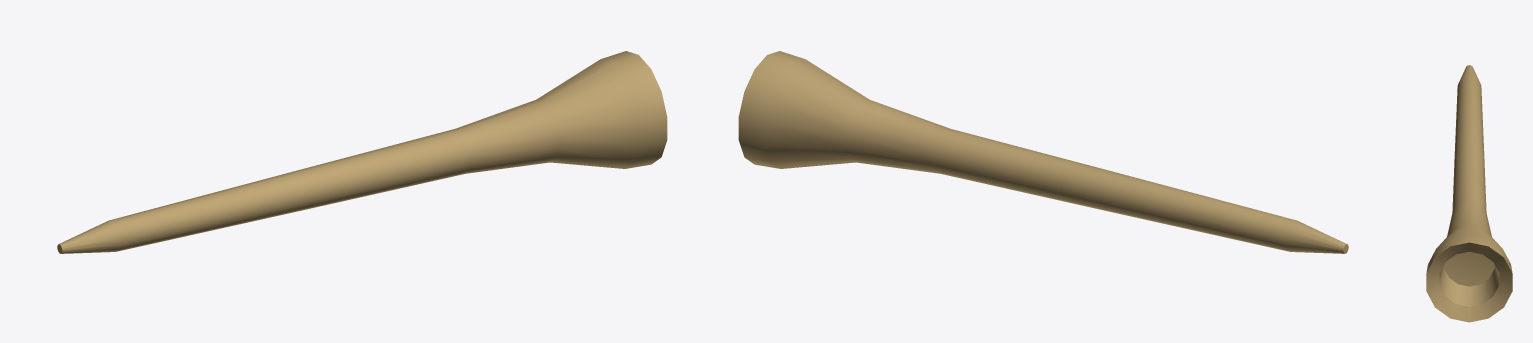
Rendered from pf_tee_loose_bamboo.glb.
3 views of the same model, side by side, from view 1: azimuth 30°, elevation 25°; view 2: azimuth 150°, elevation 25°; view 3: azimuth 270°, elevation 25° (orthographic). The views are drawn at different scales.
Parts seen in each view (by area): view 1: pf_tee_loose_bamboo_body.001; view 2: pf_tee_loose_bamboo_body.001; view 3: pf_tee_loose_bamboo_body.001.
Boxes of the visible parts, x1,y1,x2,y2 form: pf_tee_loose_bamboo_body.001: (57, 51, 667, 253); pf_tee_loose_bamboo_body.001: (738, 51, 1348, 253); pf_tee_loose_bamboo_body.001: (1426, 65, 1512, 322).
Size of the model in its own units: 0.07 by 0.013 by 0.013.
